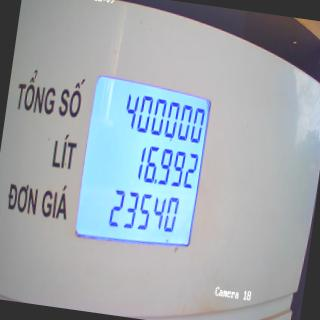screen: (72, 70, 214, 256)
